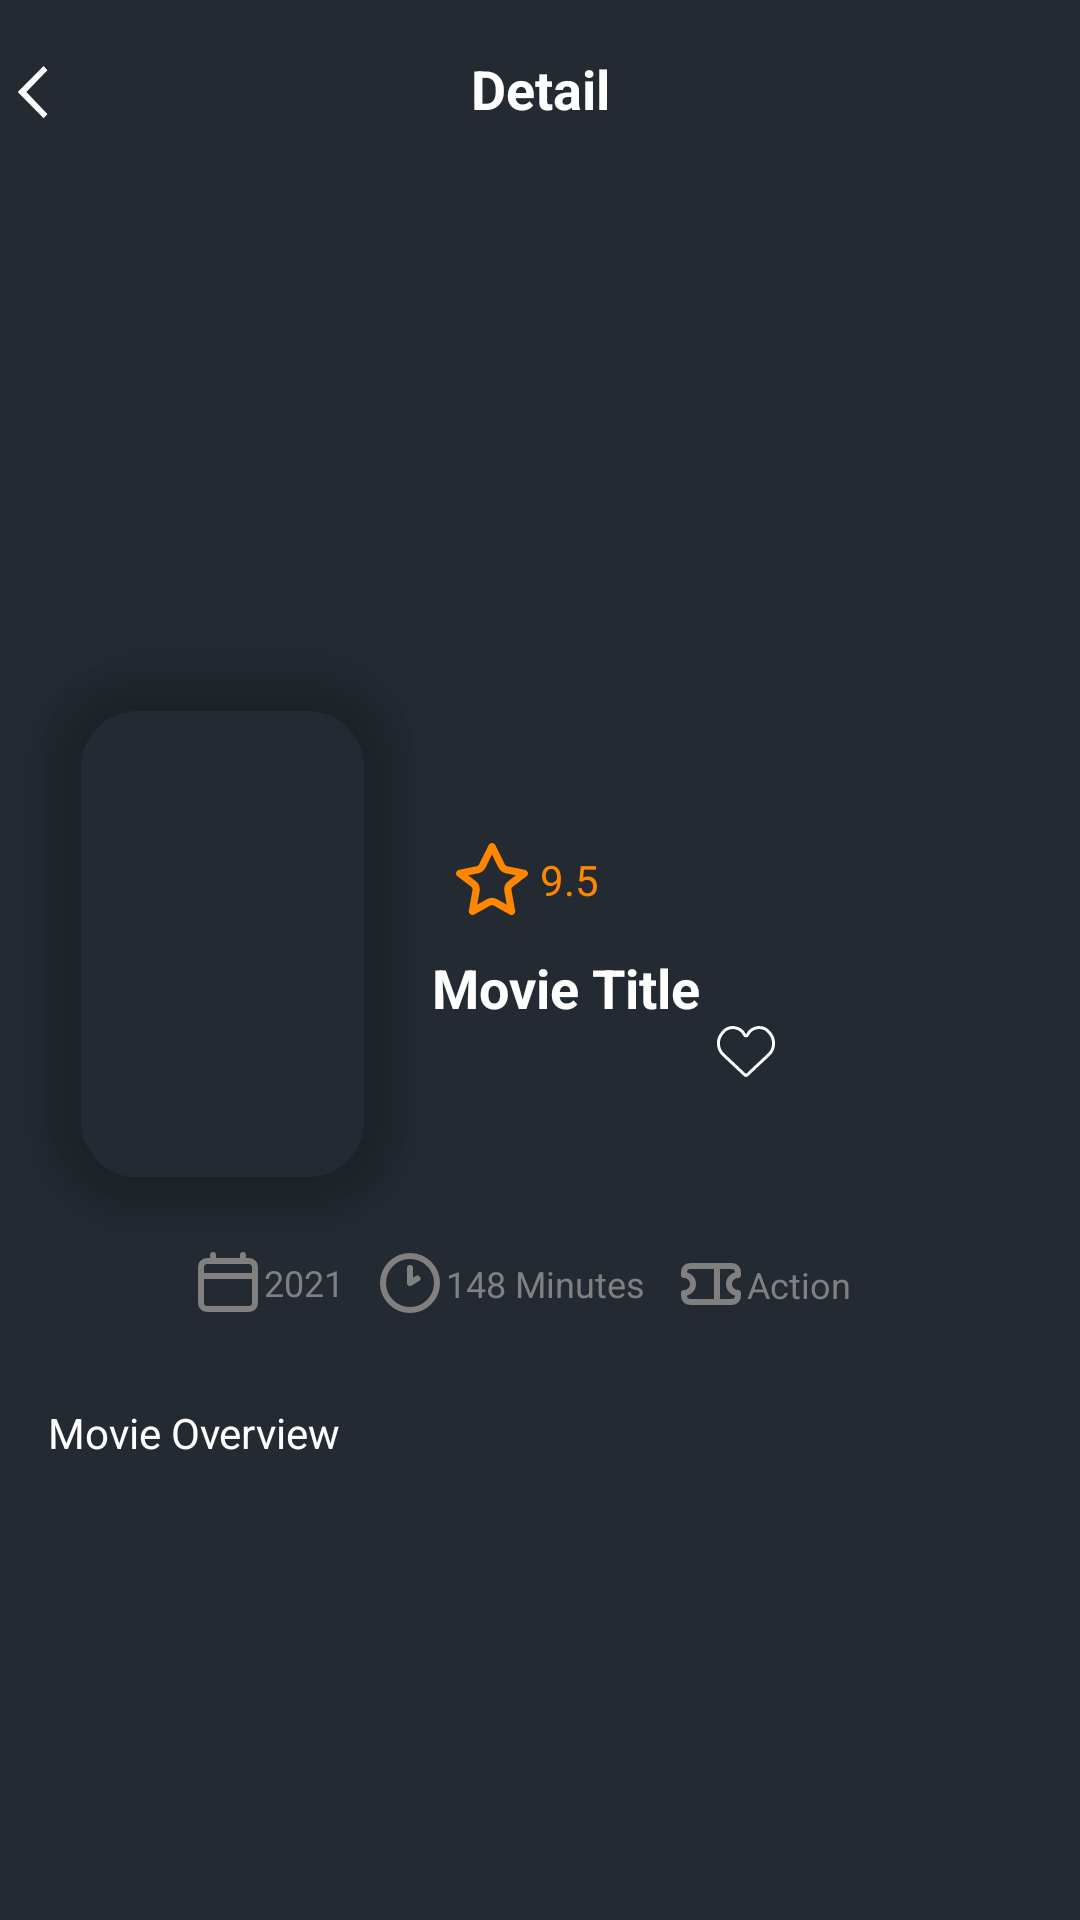

Point at icon controls on the screen. Image size 1080w x 1920h, points as (x,y).
back: (33,92)
calendar: (228,1282)
clock: (410,1283)
favorite vazio: (746,1051)
ticket: (711,1284)
